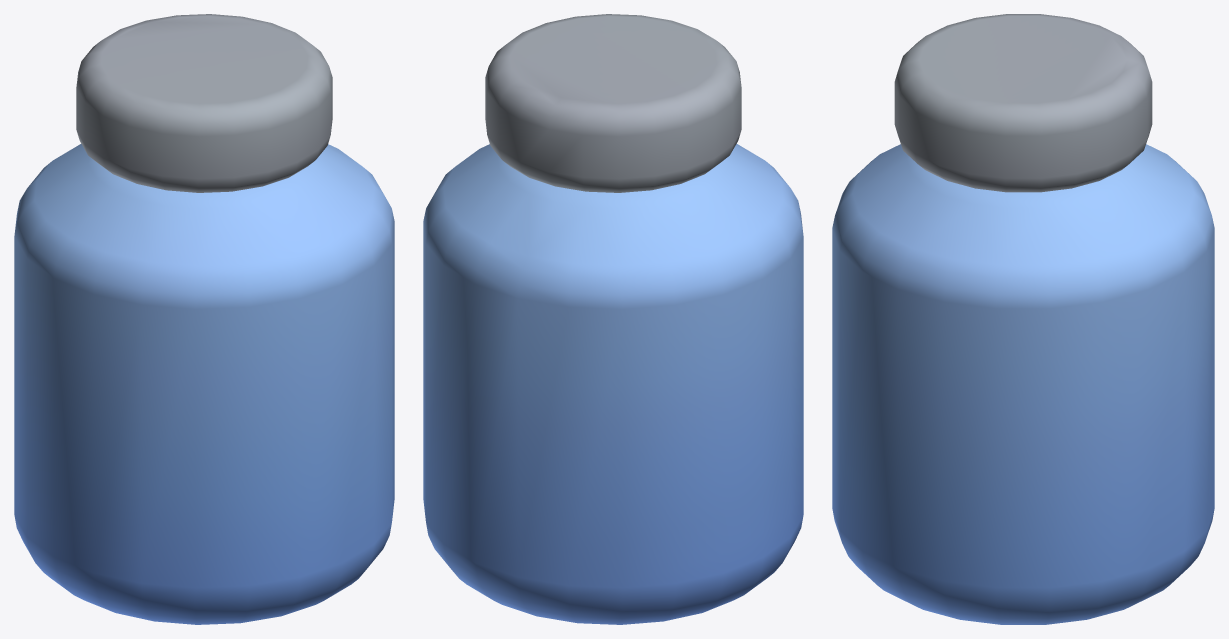
The model's file is pot.fbx.
3 views of the same model, side by side, from view 1: azimuth 30°, elevation 25°; view 2: azimuth 150°, elevation 25°; view 3: azimuth 270°, elevation 25° (orthographic).
Visible parts, largest first — view 1: Cylinder.018; view 2: Cylinder.018; view 3: Cylinder.018.
Boxes of the visible parts, x1,y1,x2,y2 form: Cylinder.018: [14, 14, 394, 624]; Cylinder.018: [423, 14, 803, 624]; Cylinder.018: [832, 14, 1214, 624].
Size of the model in its own units: 1.91 by 2.83 by 1.93.
